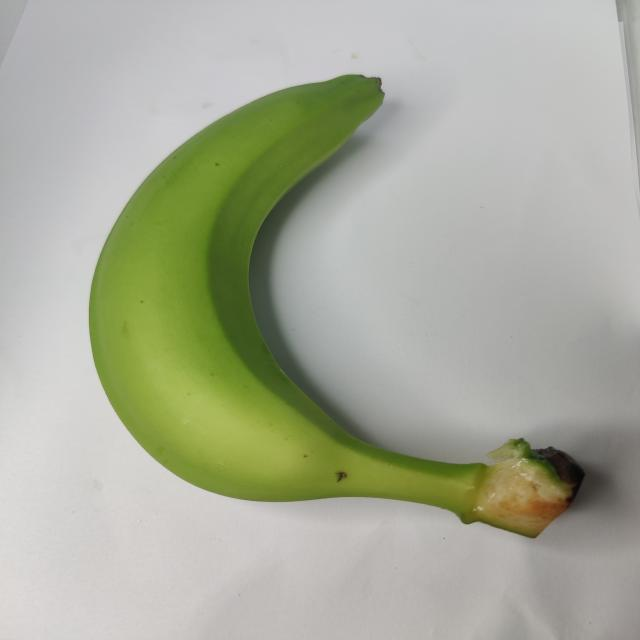raw: (55, 29, 605, 564)
